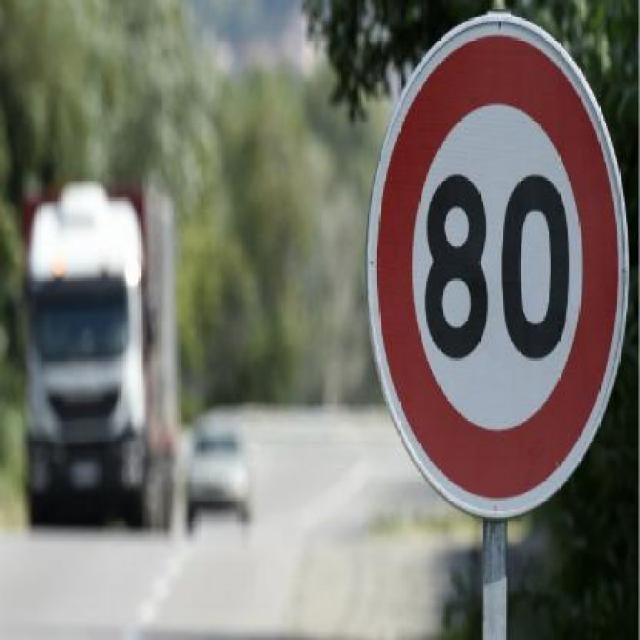speed limit 80: (368, 13, 630, 524)
